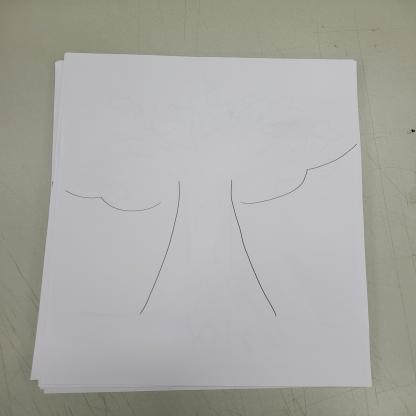crown_cloud: (64, 80, 357, 212)
trunk_reflex: (142, 219, 272, 293)
